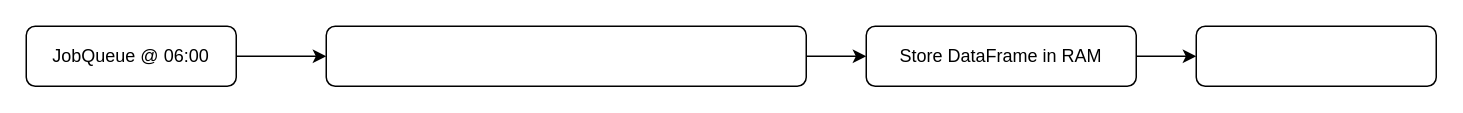
Image size: 1463x113. Some labels were removed from this diagram. The box of each missing label's shape, as (x1, y1, x2, y2) in pixels:
cache.get_cached_yesterdays_analysis(force=True): (325, 25, 806, 86)
Handlers read cache: (1195, 25, 1436, 86)
